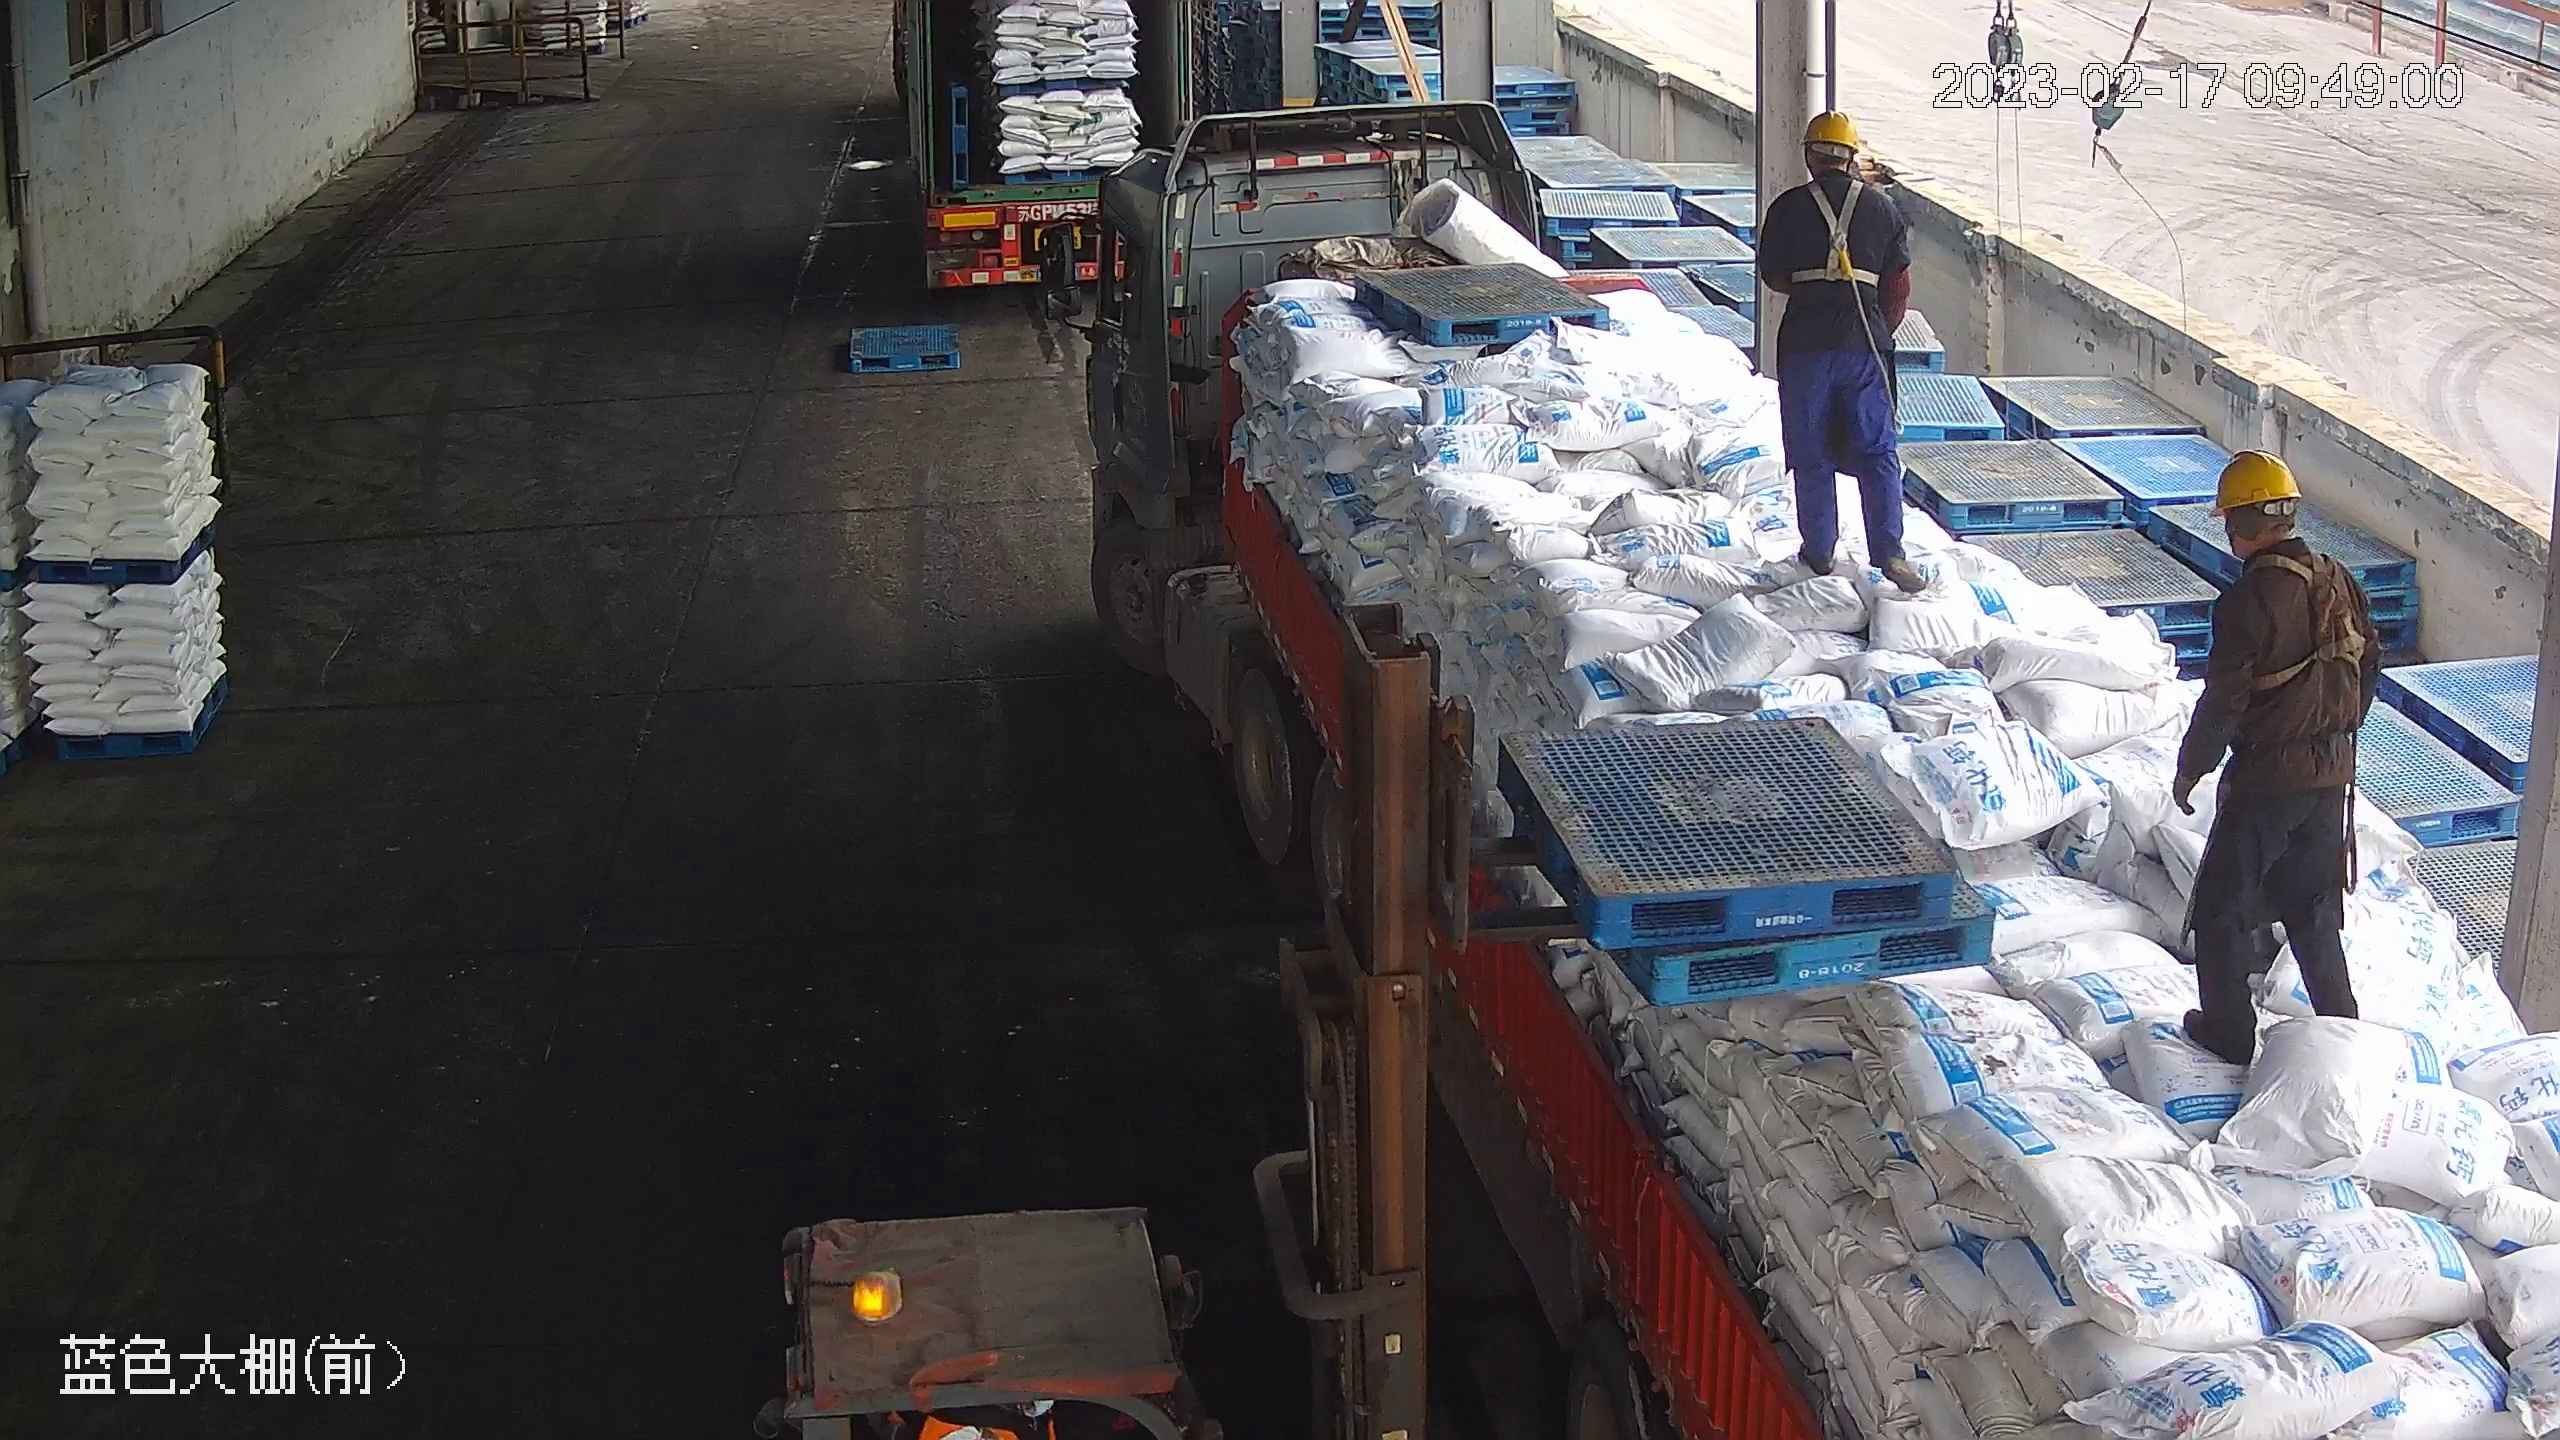belt: (2245, 546, 2371, 694), (1789, 178, 1886, 289)
head: (2175, 447, 2373, 644), (1766, 111, 1896, 222)
helmet: (2205, 445, 2305, 516), (1802, 111, 1866, 153)
people: (2163, 445, 2382, 1072), (1757, 109, 1932, 594)
truck: (1051, 113, 2557, 1440), (875, 1, 1202, 303)
